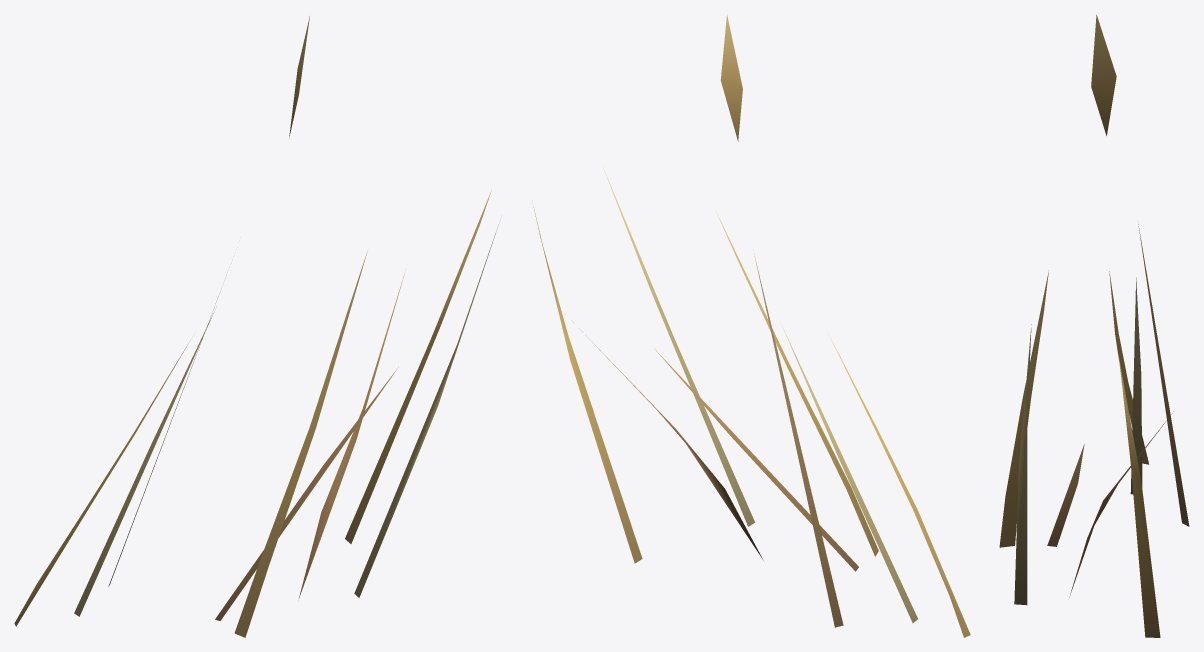
The model's file is DryTuftFan_LOD3.glb.
3 renders of one model, left to right at view 1: azimuth 30°, elevation 25°; view 2: azimuth 150°, elevation 25°; view 3: azimuth 270°, elevation 25°, orthographic. The views are drawn at different scales.
Parts seen in each view (by area): view 1: DryTuftFan_LOD3; view 2: DryTuftFan_LOD3; view 3: DryTuftFan_LOD3.
Boxes of the visible parts, x1,y1,x2,y2 form: DryTuftFan_LOD3: (14,16,498,637); DryTuftFan_LOD3: (532,15,970,637); DryTuftFan_LOD3: (999,15,1189,637).
Size of the model in its own units: 0.2405 by 0.282 by 0.081.
